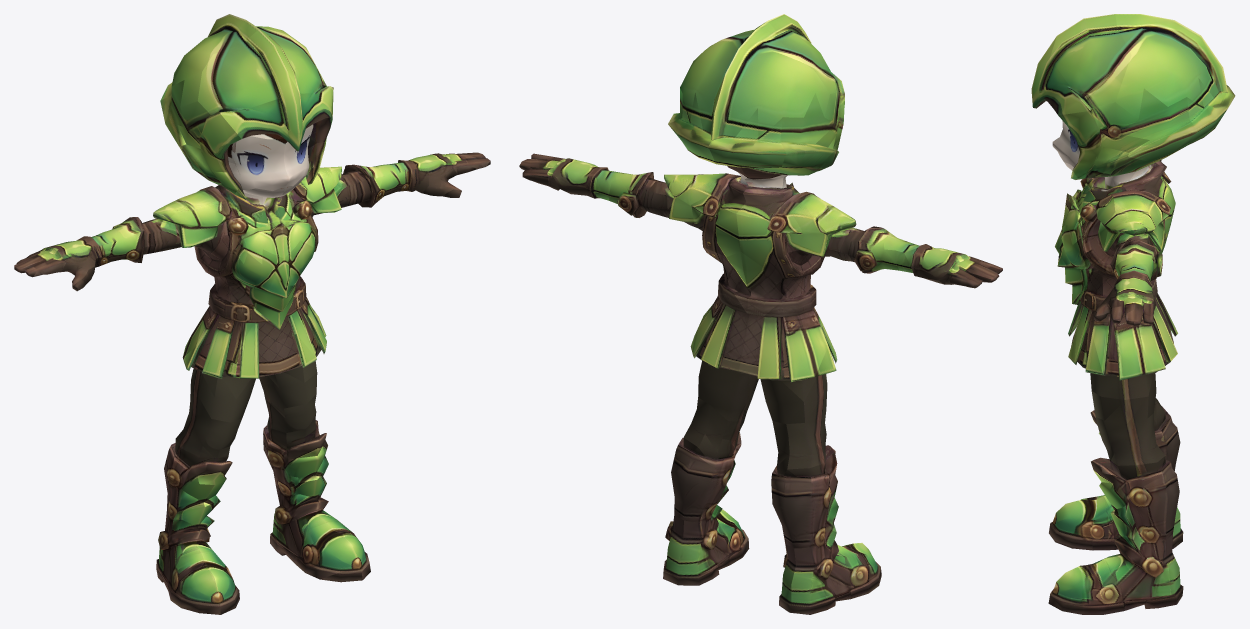
The model's file is beetle_meshy.glb.
The picture shows the model from 3 angles, left to right: view 1: azimuth 30°, elevation 25°; view 2: azimuth 150°, elevation 25°; view 3: azimuth 270°, elevation 25°; orthographic projection.
Bounding box in the file's own units: 1.8 × 2 × 0.6669.
1 material, 1 textured.
